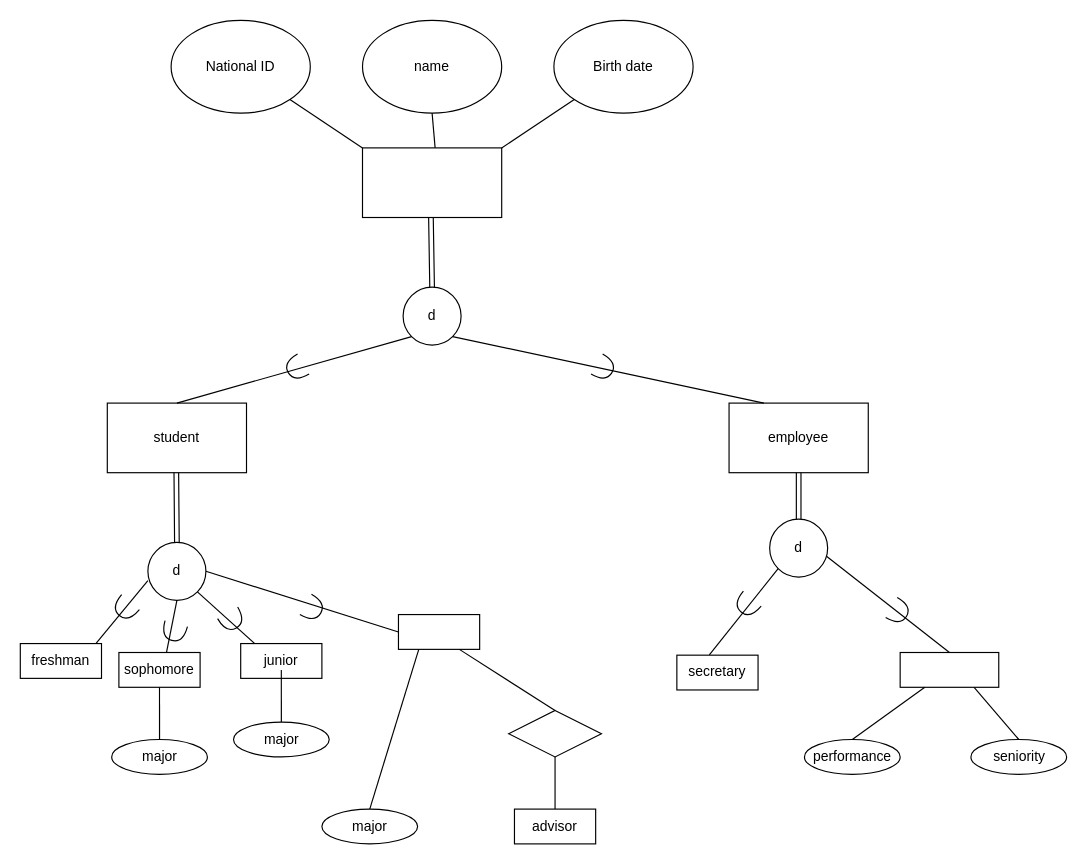
Some shapes in this 1087 by 864 pixel diagram are drawn without their labels. Here are the shapes that lost their labels. From the top down, the centre of each, then its label:
point 431,182: PERSON
point 438,631: senior
point 949,669: professional
point 554,733: advised
